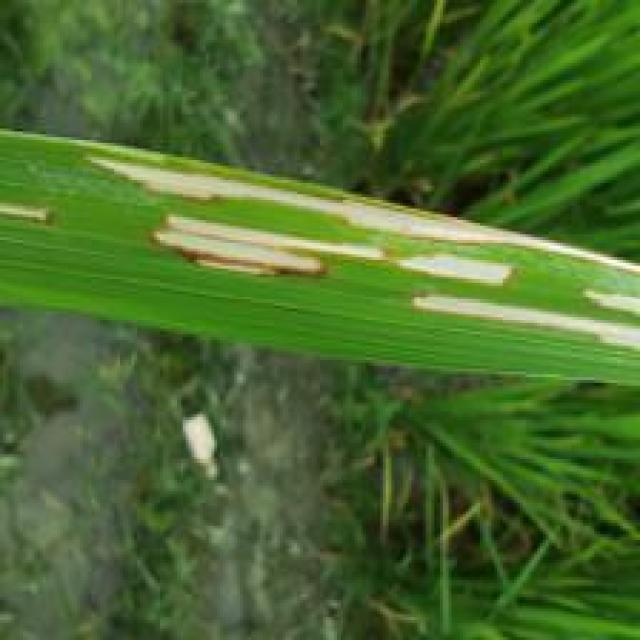Rice_Hispa: (87, 151, 638, 271), (156, 214, 512, 283), (417, 289, 637, 349)
